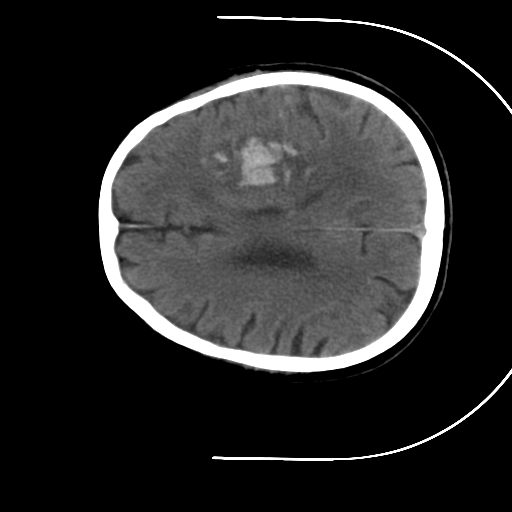a: (186, 122, 328, 204)
